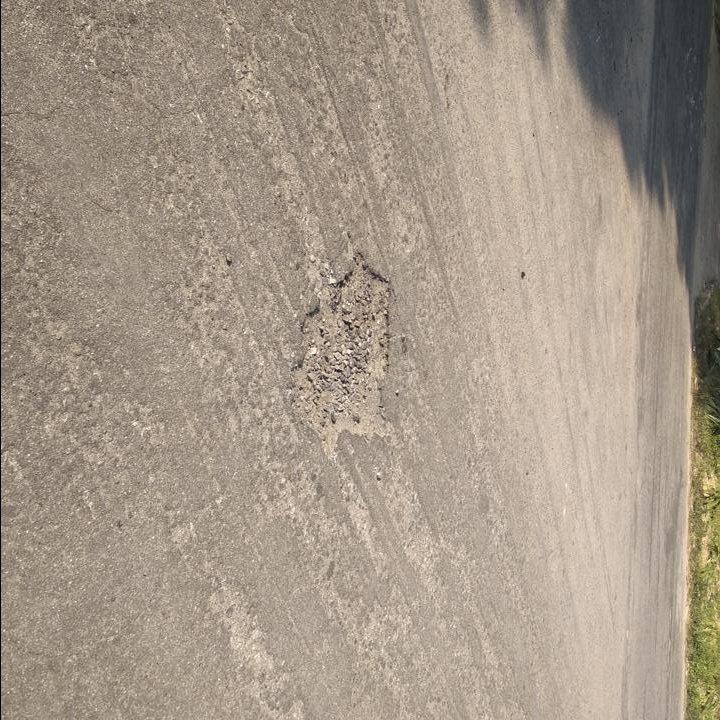pothole: (288, 248, 400, 462)
